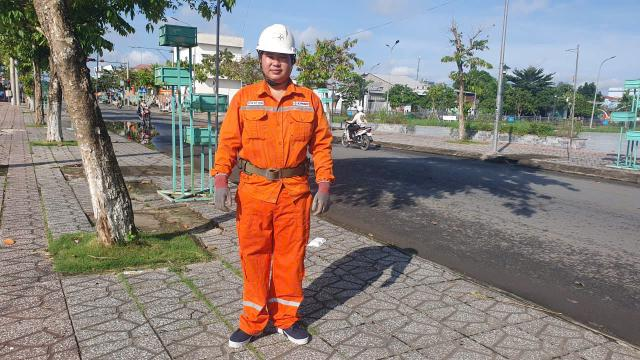gloves: (209, 166, 236, 216), (310, 174, 335, 221)
harness: (231, 153, 323, 189)
helmet: (245, 15, 301, 62)
shoes: (272, 315, 316, 355), (218, 318, 264, 356)
